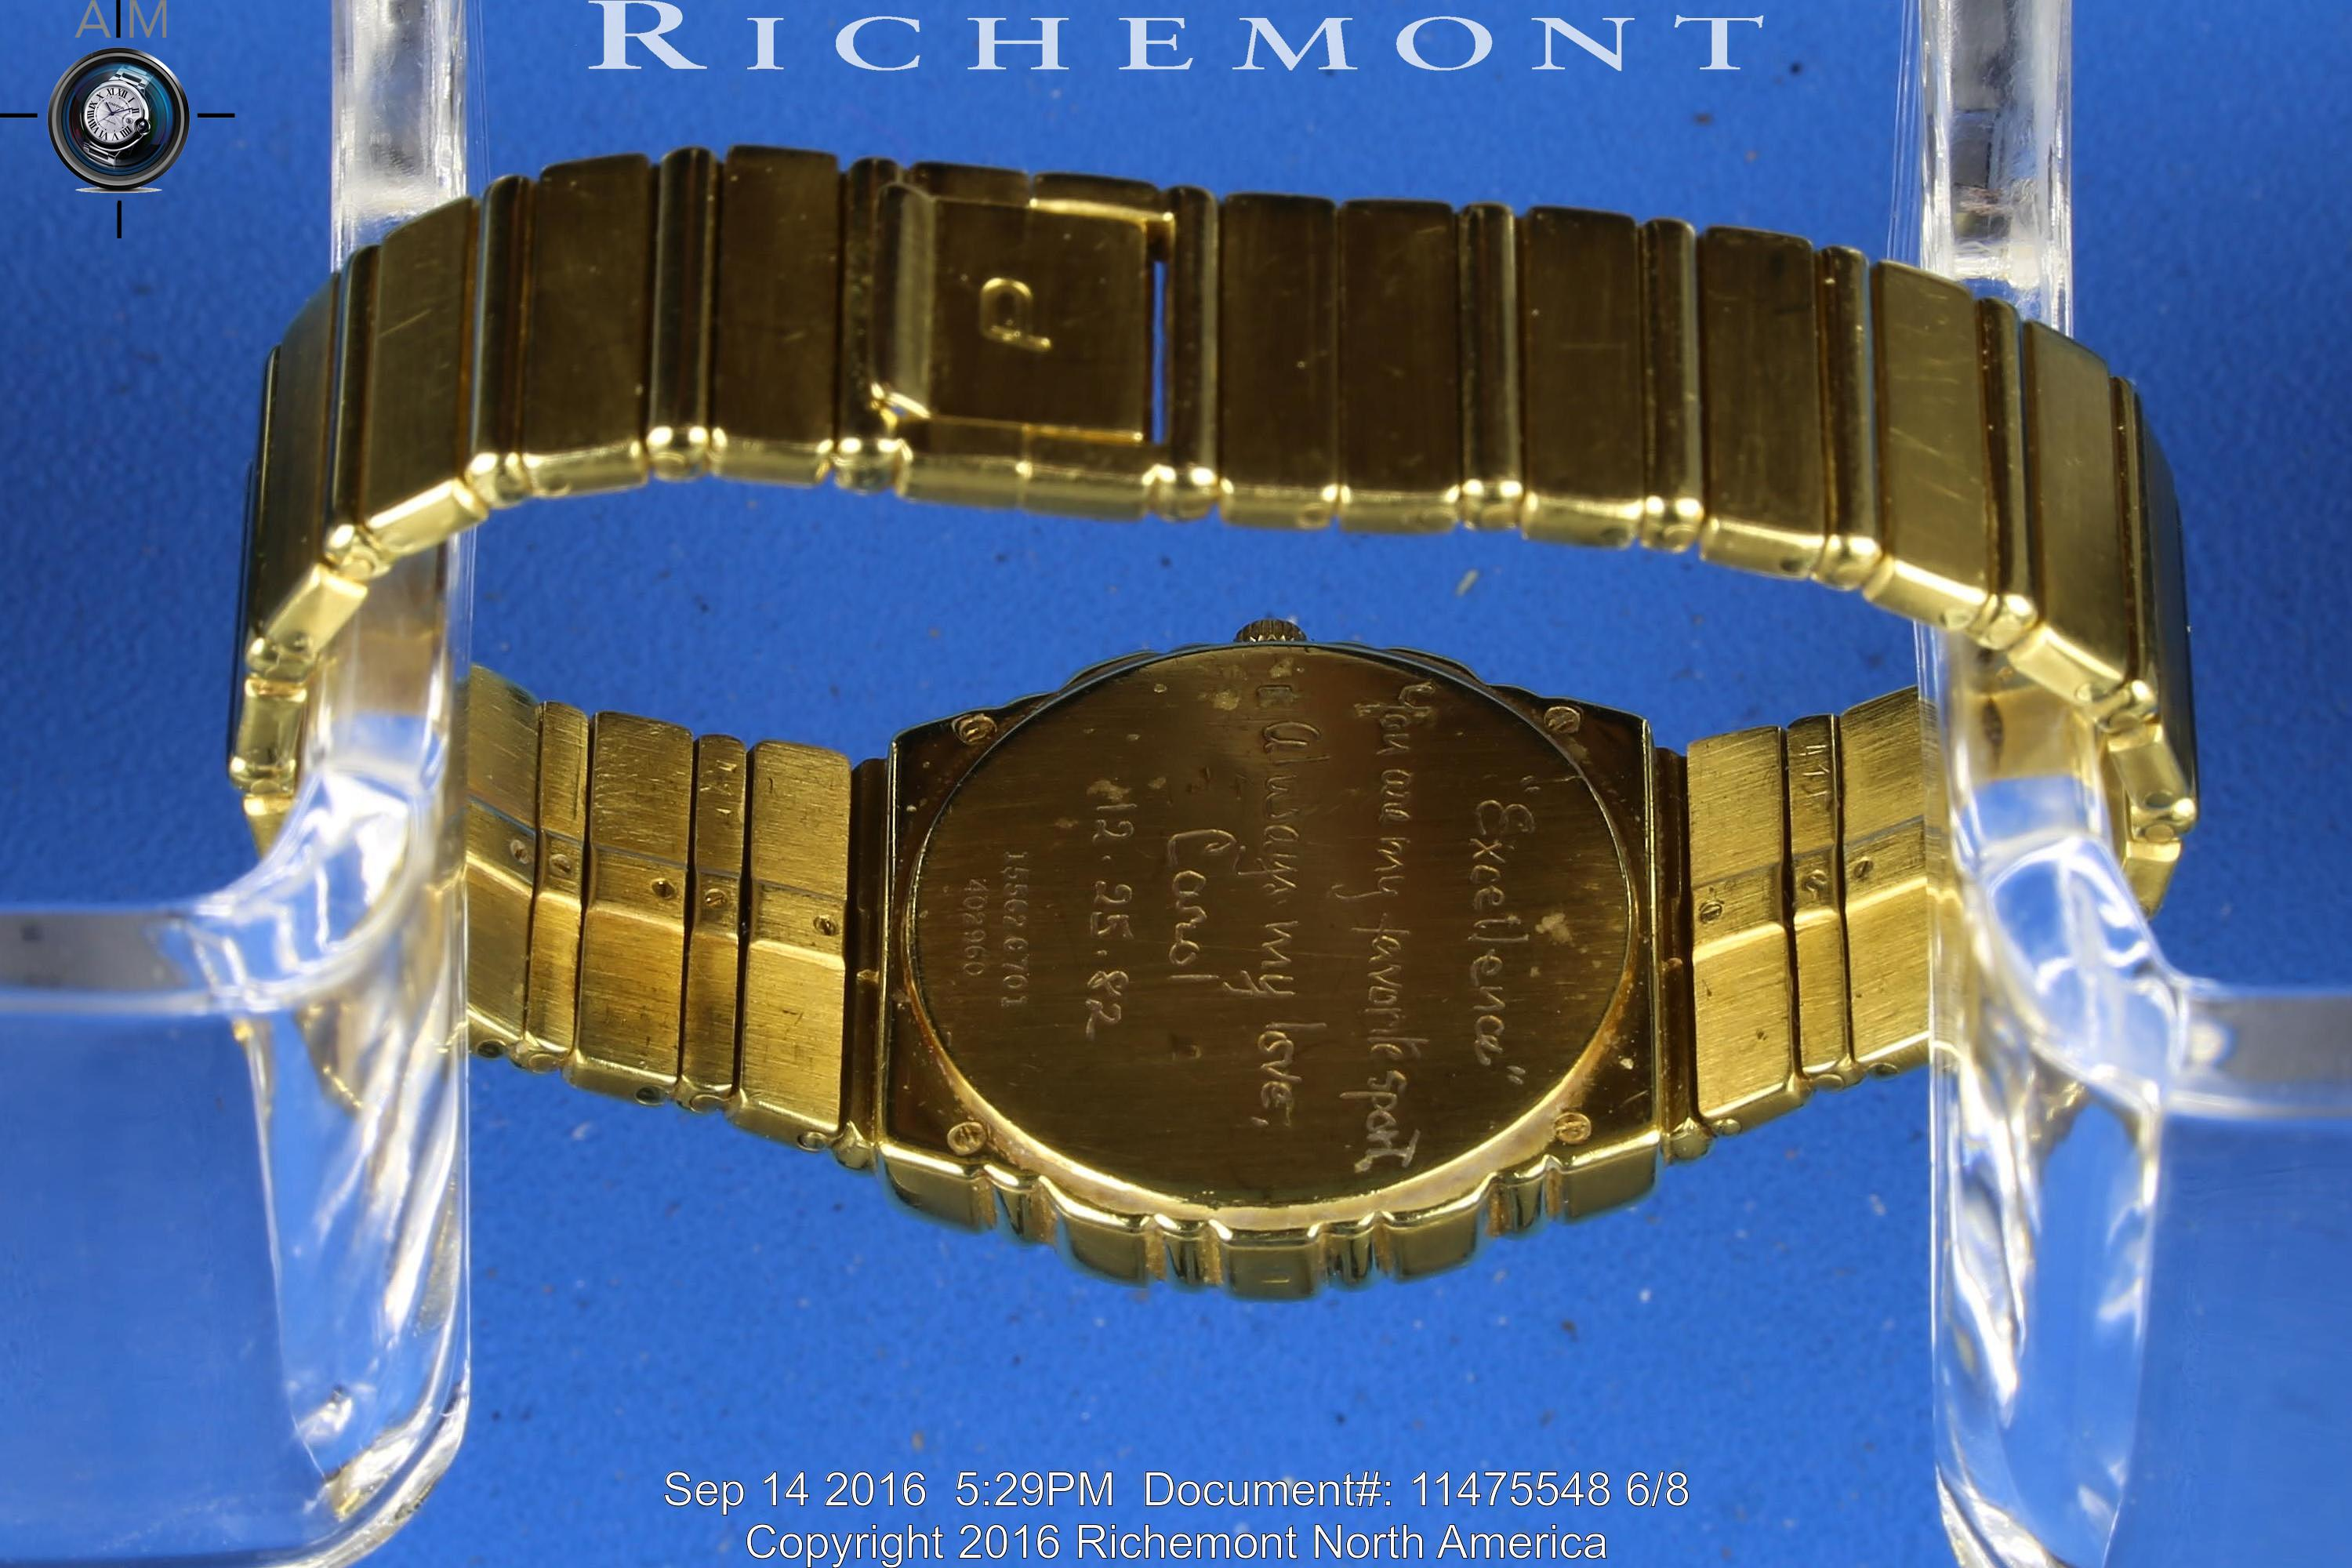Watch BackCase: (859, 600, 1671, 1312)
